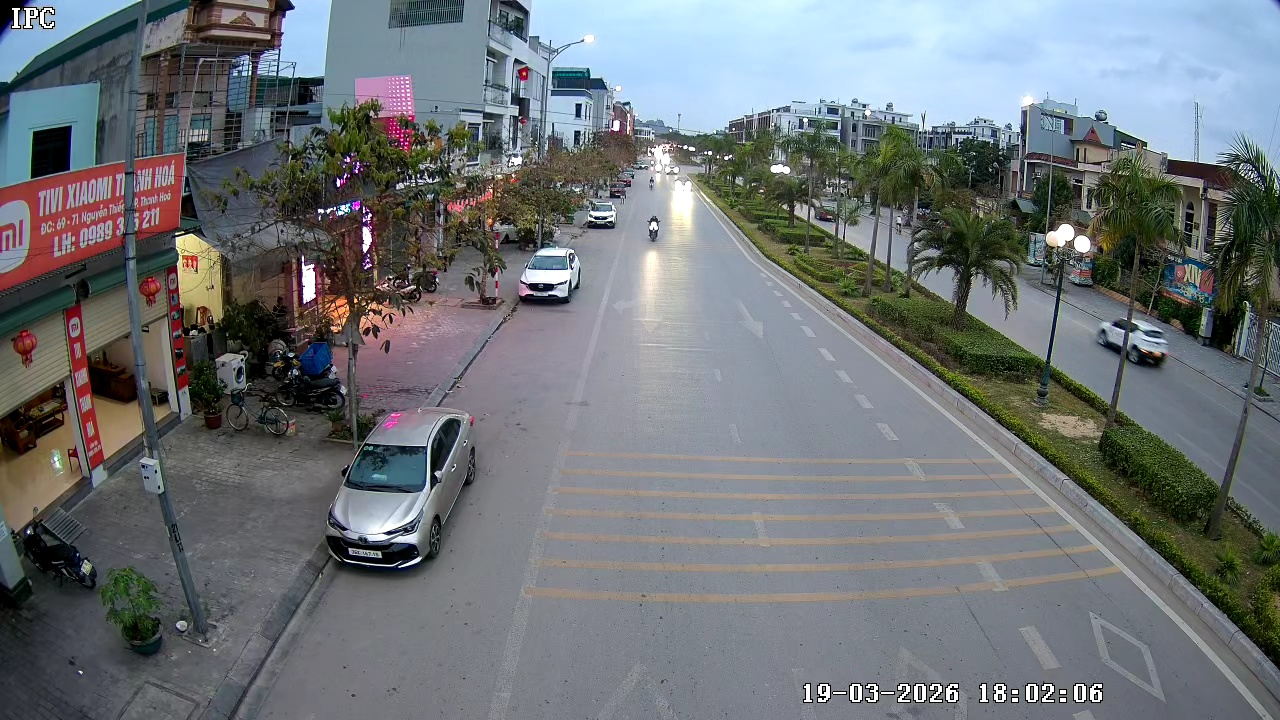car: (325, 406, 478, 572), (1095, 315, 1169, 368), (517, 246, 582, 304), (583, 197, 620, 229)
motorbike: (646, 211, 661, 244)
